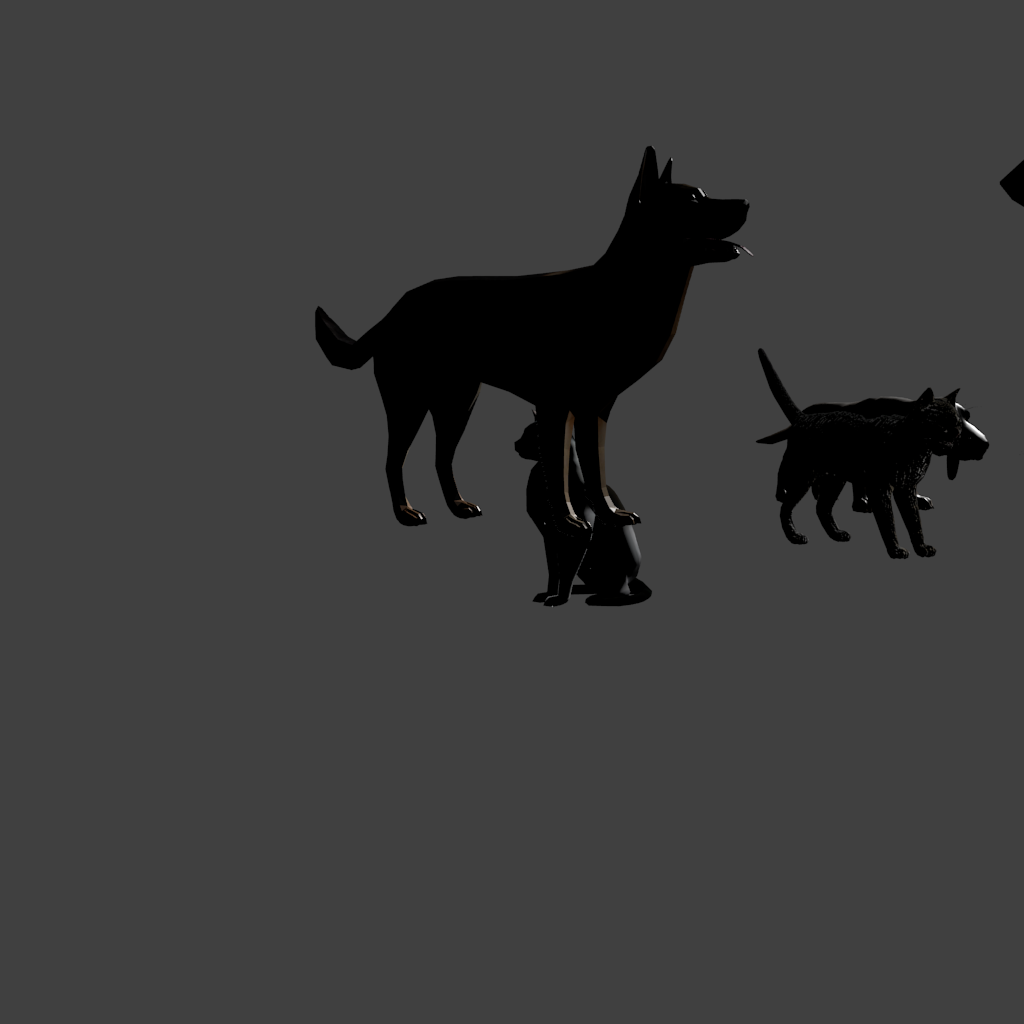Dog: (315, 146, 438, 390)
